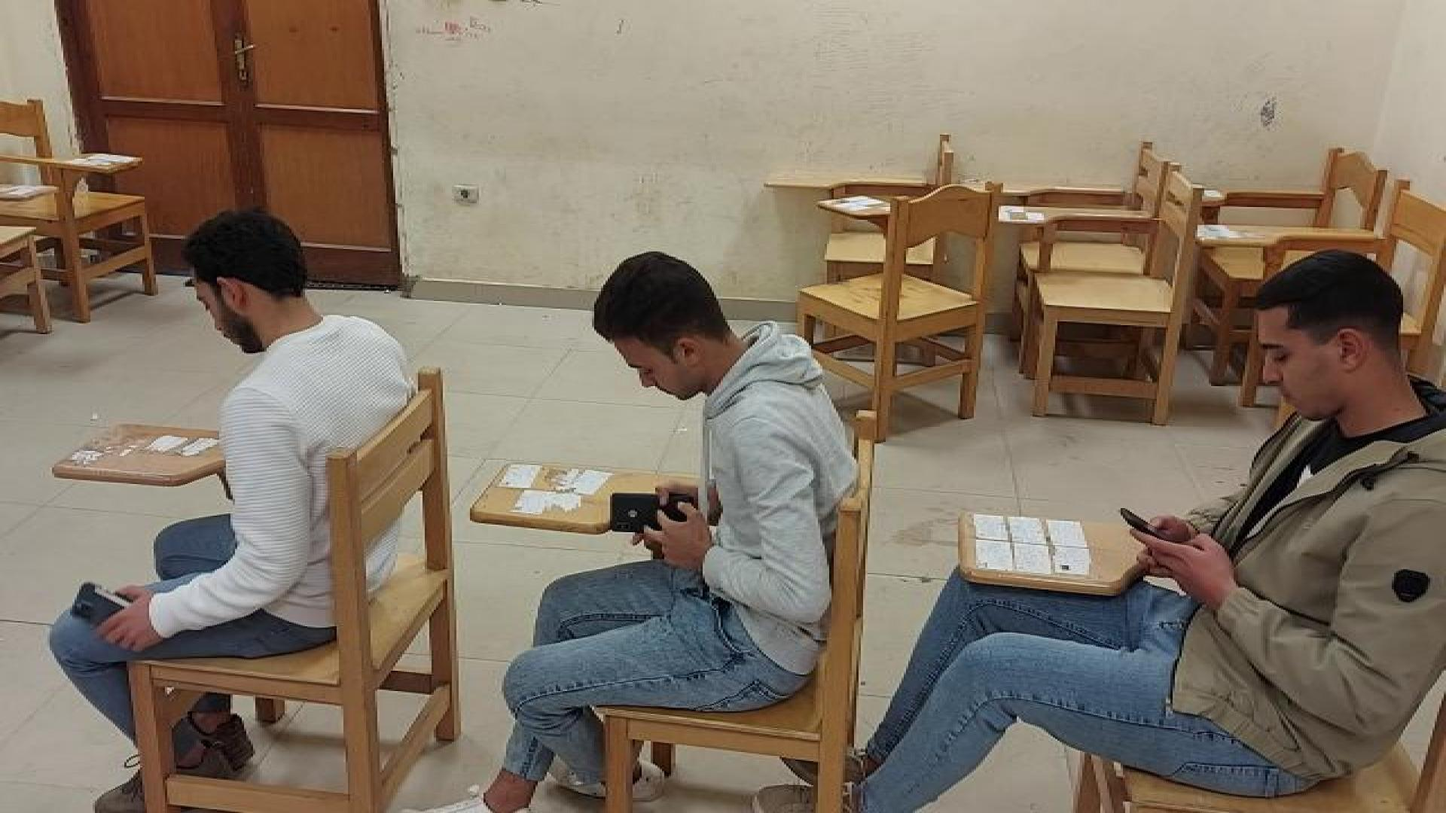phone: (608, 490, 698, 539), (1117, 502, 1192, 546), (69, 581, 132, 626)
